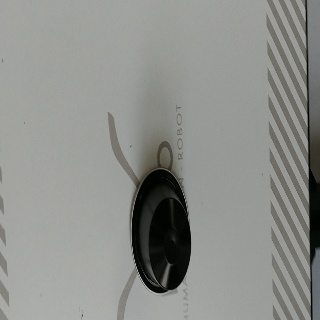capsule_10: (130, 167, 192, 295)
